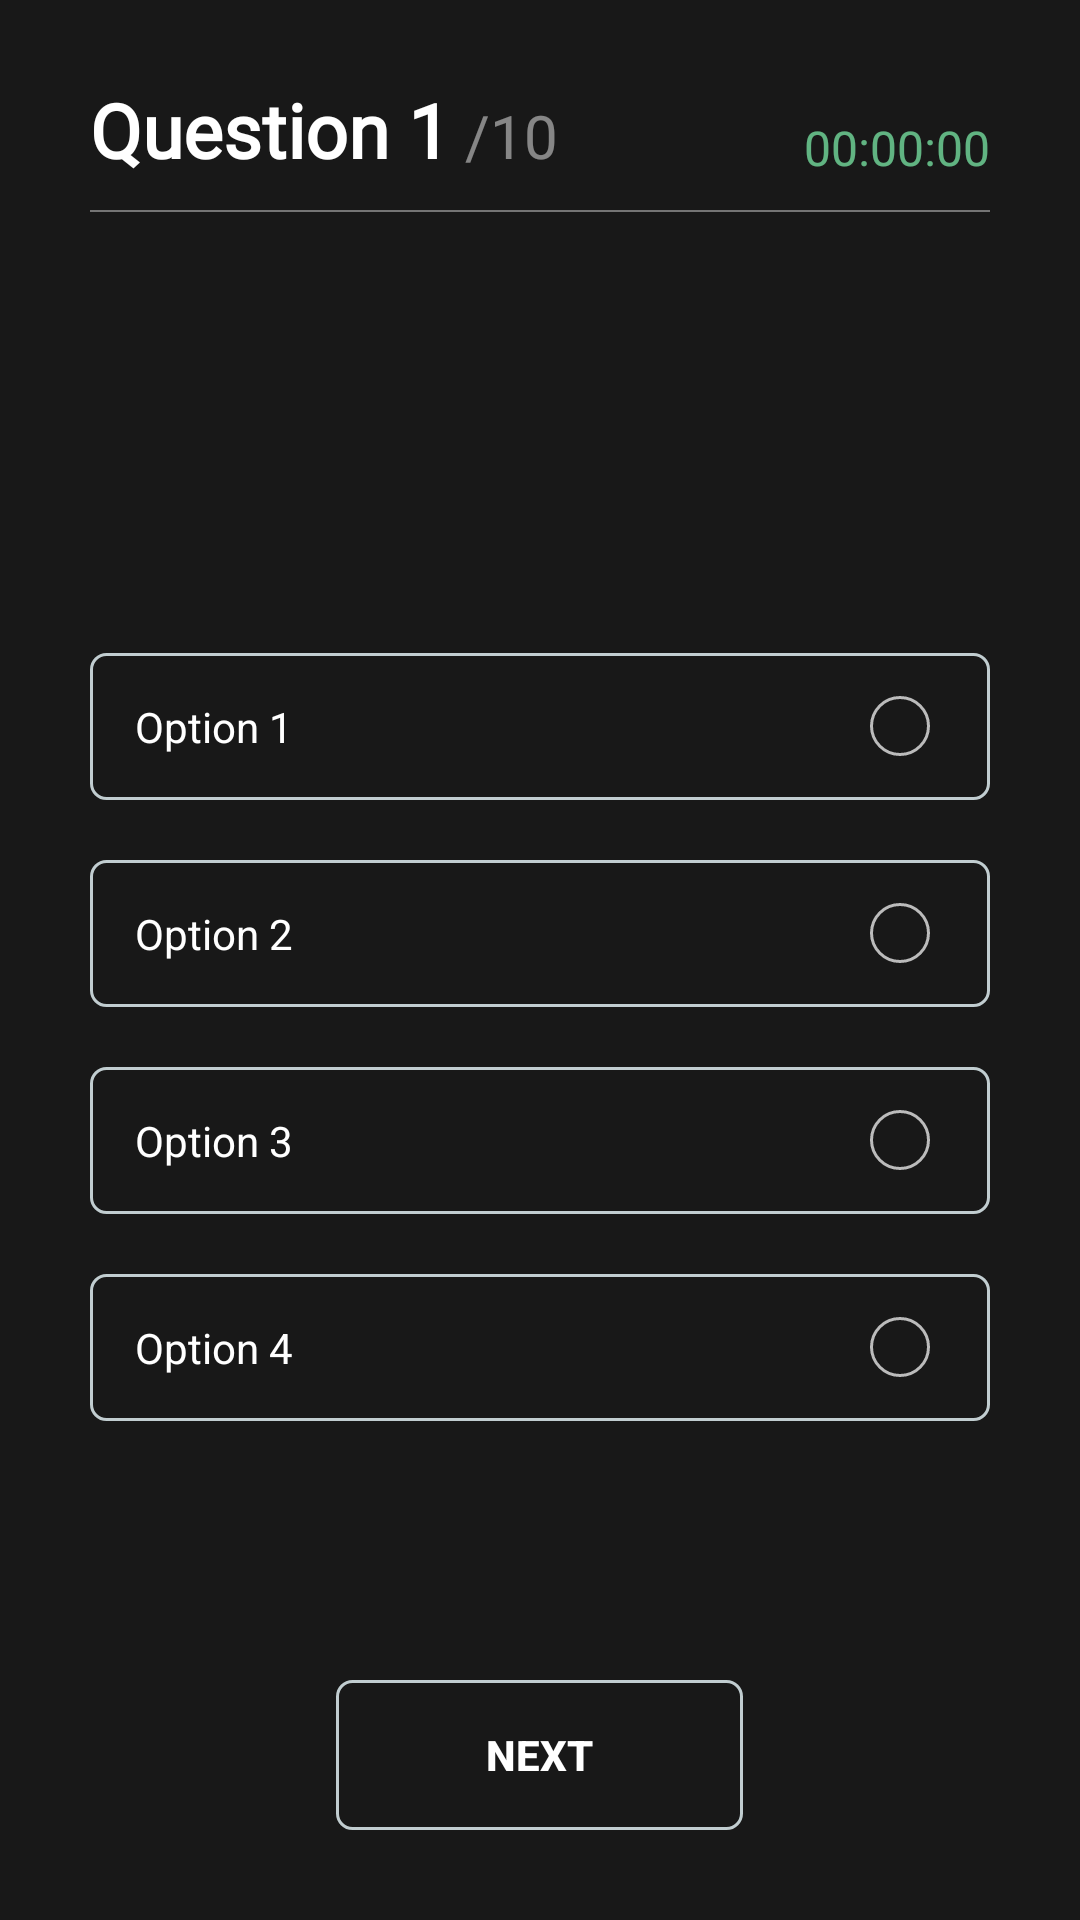

Where icons sit on this 1080w x 1920h app screen, as (x1, y1, x2, y2):
option select: (870, 696, 930, 756), (870, 903, 930, 963), (870, 1110, 930, 1170), (870, 1317, 930, 1377)
